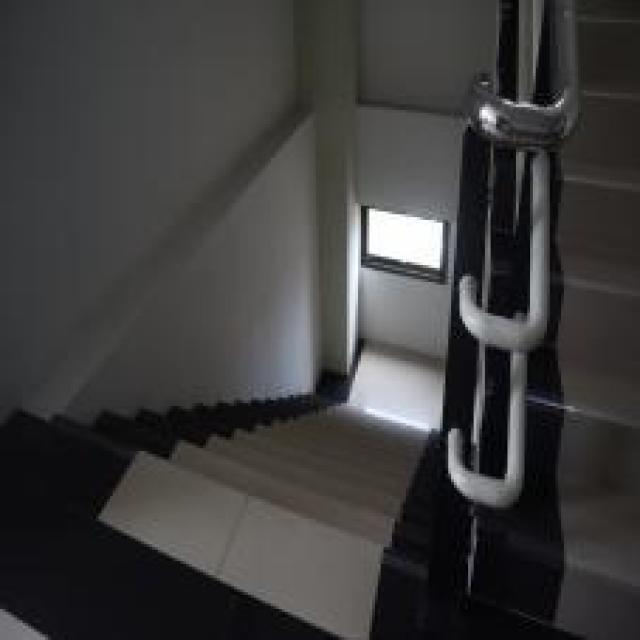downstair: (125, 342, 441, 638)
